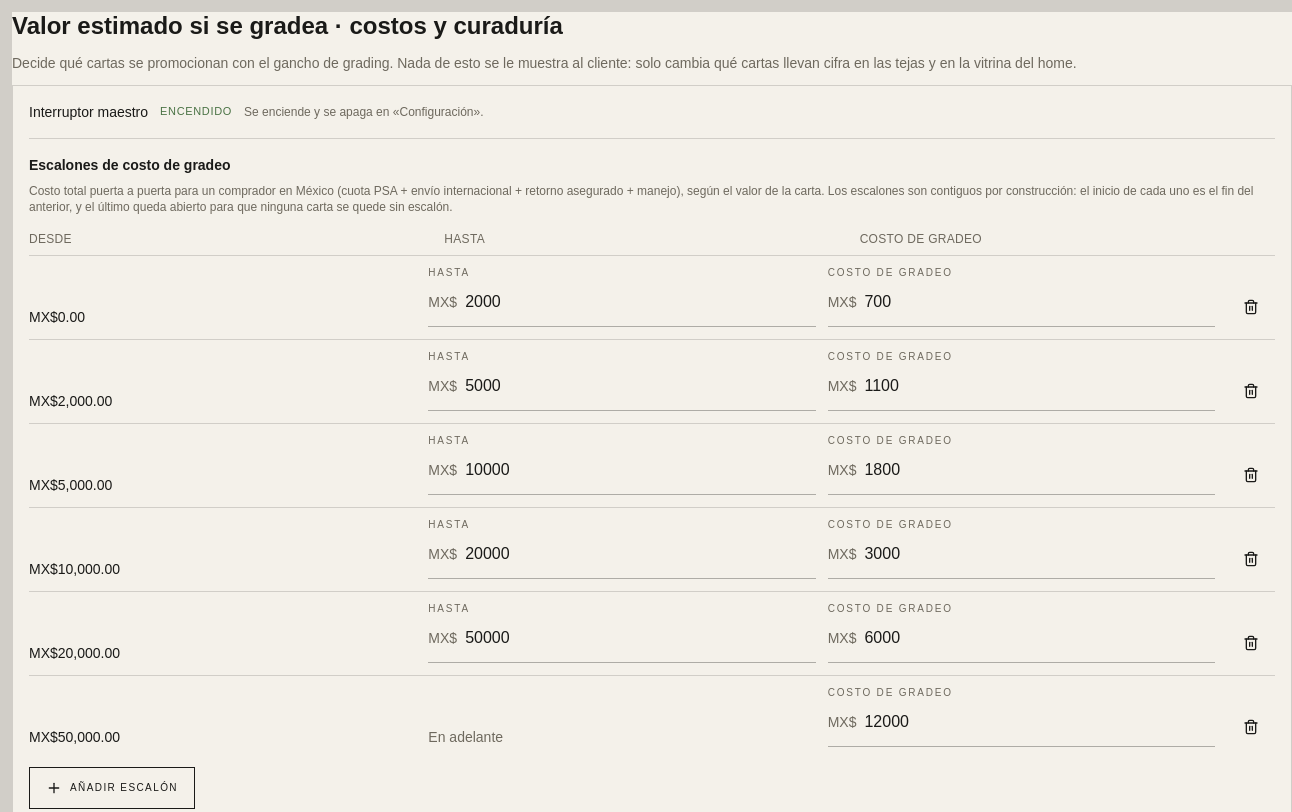
GradedEstimatesSection · escalones de costo de gradeo (§M2 / §O.2.1) › el `min` NO es editable: se deriva del fin del escalón anterior (contigüidad por construcción)
The image size is (1292, 812).
expect the heading "Escalones de costo de gradeo" is shown: met, box [29, 157, 230, 173]
Note: Mover el fin del escalón 1 mueve el inicio del 2: no puede abrirse un hueco.
Replace the text in the field named "Fin del escalón 1" with "2500" at (640, 302), box [465, 290, 816, 314]
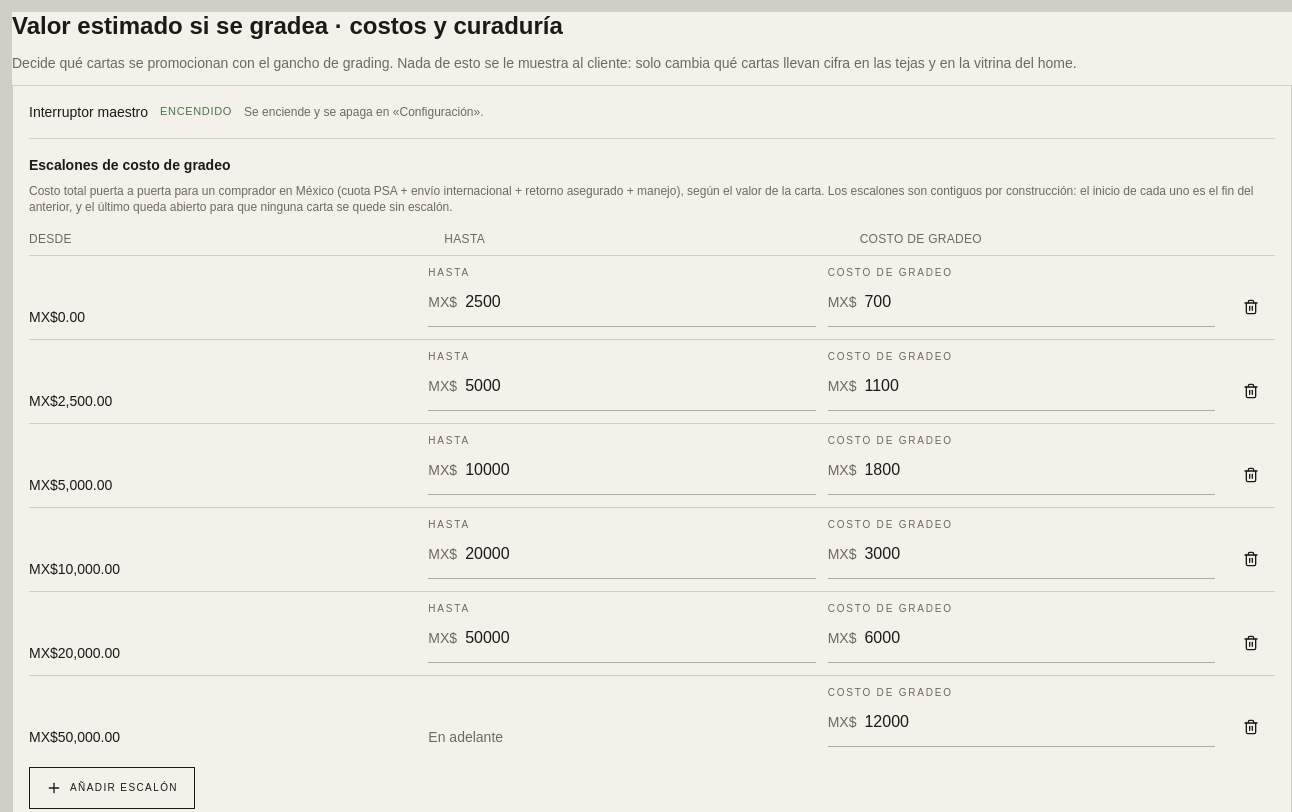
expect the text "MX$2,500.00" is shown: met, box [29, 393, 112, 409]
